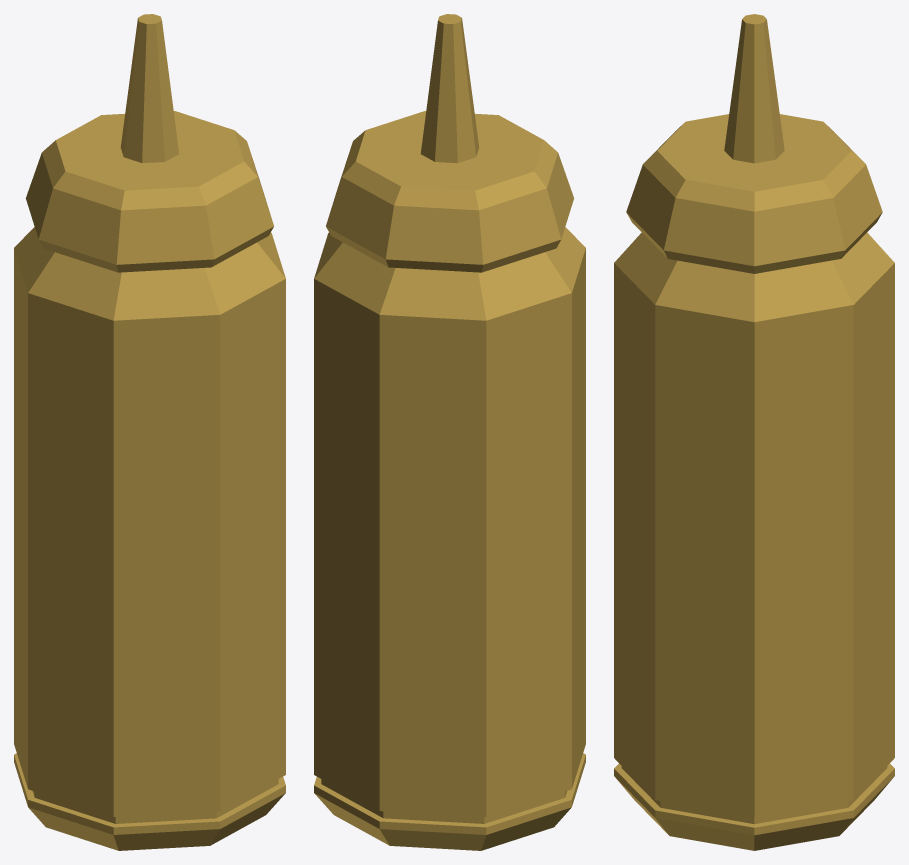
File: mustardbottle.glb
3 views of the same model, side by side, from view 1: azimuth 30°, elevation 25°; view 2: azimuth 150°, elevation 25°; view 3: azimuth 270°, elevation 25° (orthographic).
Parts seen in each view (by area): view 1: MustardBottle; view 2: MustardBottle; view 3: MustardBottle.
Part boxes in pixels (box(x1,y1,x2,y2)): MustardBottle: box(14, 14, 285, 850); MustardBottle: box(314, 14, 585, 850); MustardBottle: box(614, 14, 894, 850).
Size of the model in its own units: 0.4996 by 1.53 by 0.4996.
